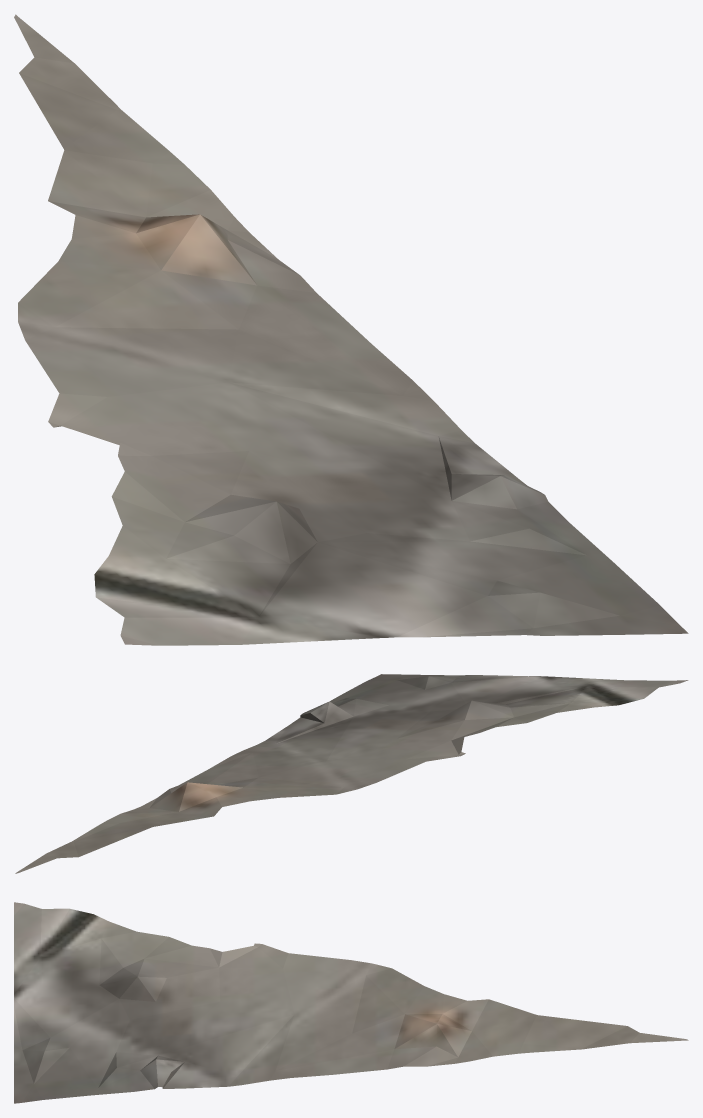
3 views of the same model, one above another, from view 1: azimuth 30°, elevation 25°; view 2: azimuth 150°, elevation 25°; view 3: azimuth 270°, elevation 25° (orthographic). The views are drawn at different scales.
Size of the model in its own units: 0.2716 by 0.0583 by 0.5614.
1 material, 1 textured.
